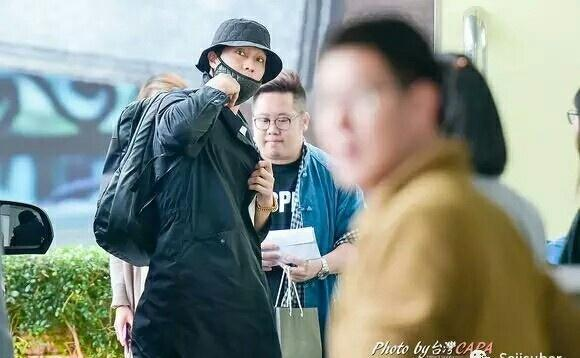NONE: (315, 87, 401, 178), (254, 112, 301, 158)
WRONG: (211, 44, 265, 99)
